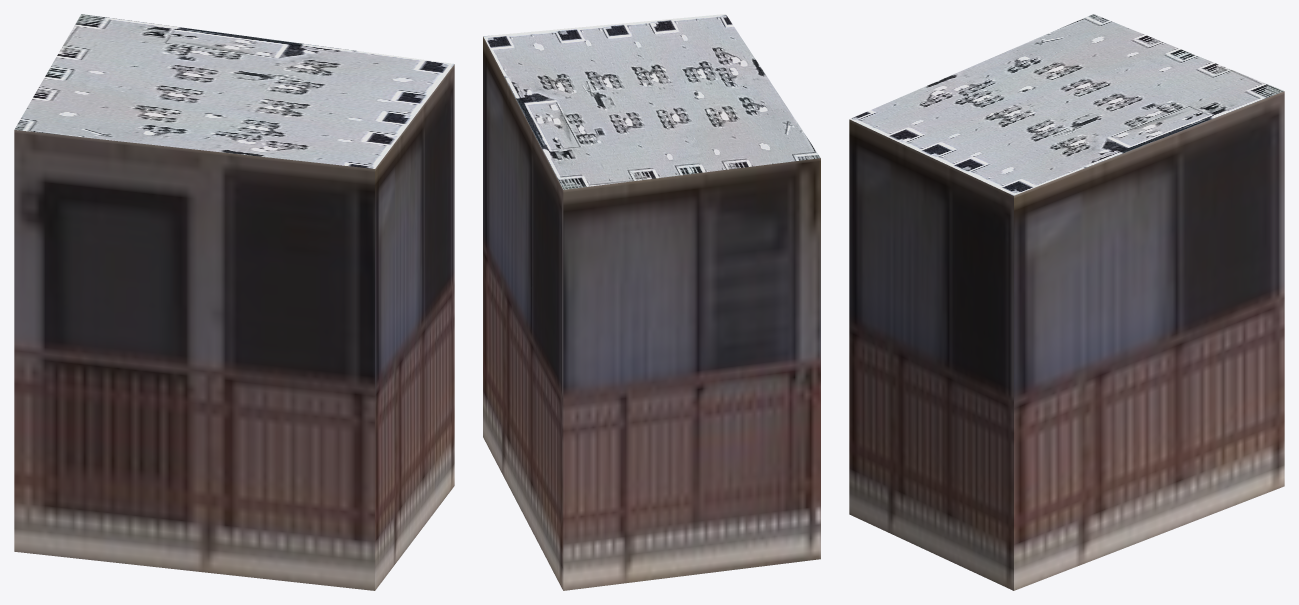
The model's file is ResTex__5283.fbx.
3 views of the same model, side by side, from view 1: azimuth 30°, elevation 25°; view 2: azimuth 150°, elevation 25°; view 3: azimuth 270°, elevation 25° (orthographic). The views are drawn at different scales.
Parts seen in each view (by area): view 1: CityEngineMaterial_6_m, CityEngineMaterial_8_m; view 2: CityEngineMaterial_6_m, CityEngineMaterial_8_m; view 3: CityEngineMaterial_6_m, CityEngineMaterial_8_m.
Boxes of the visible parts, x1,y1,x2,y2 form: CityEngineMaterial_6_m: (14,64,454,590); CityEngineMaterial_8_m: (14,14,454,168); CityEngineMaterial_6_m: (483,36,820,590); CityEngineMaterial_8_m: (483,14,820,189); CityEngineMaterial_6_m: (849,91,1284,590); CityEngineMaterial_8_m: (849,14,1283,195).
Bounding box in the file's own units: 2.96 × 3 × 2.99.
2 materials, 2 textured.
